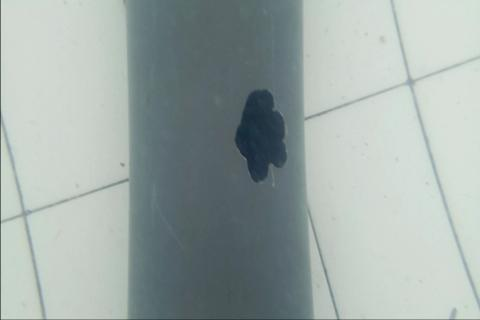kebocoran: (232, 86, 290, 184)
